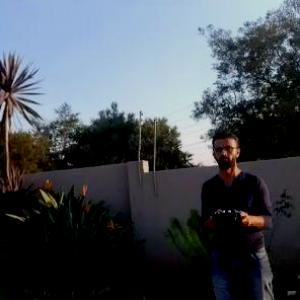follow: (194, 121, 274, 299)
